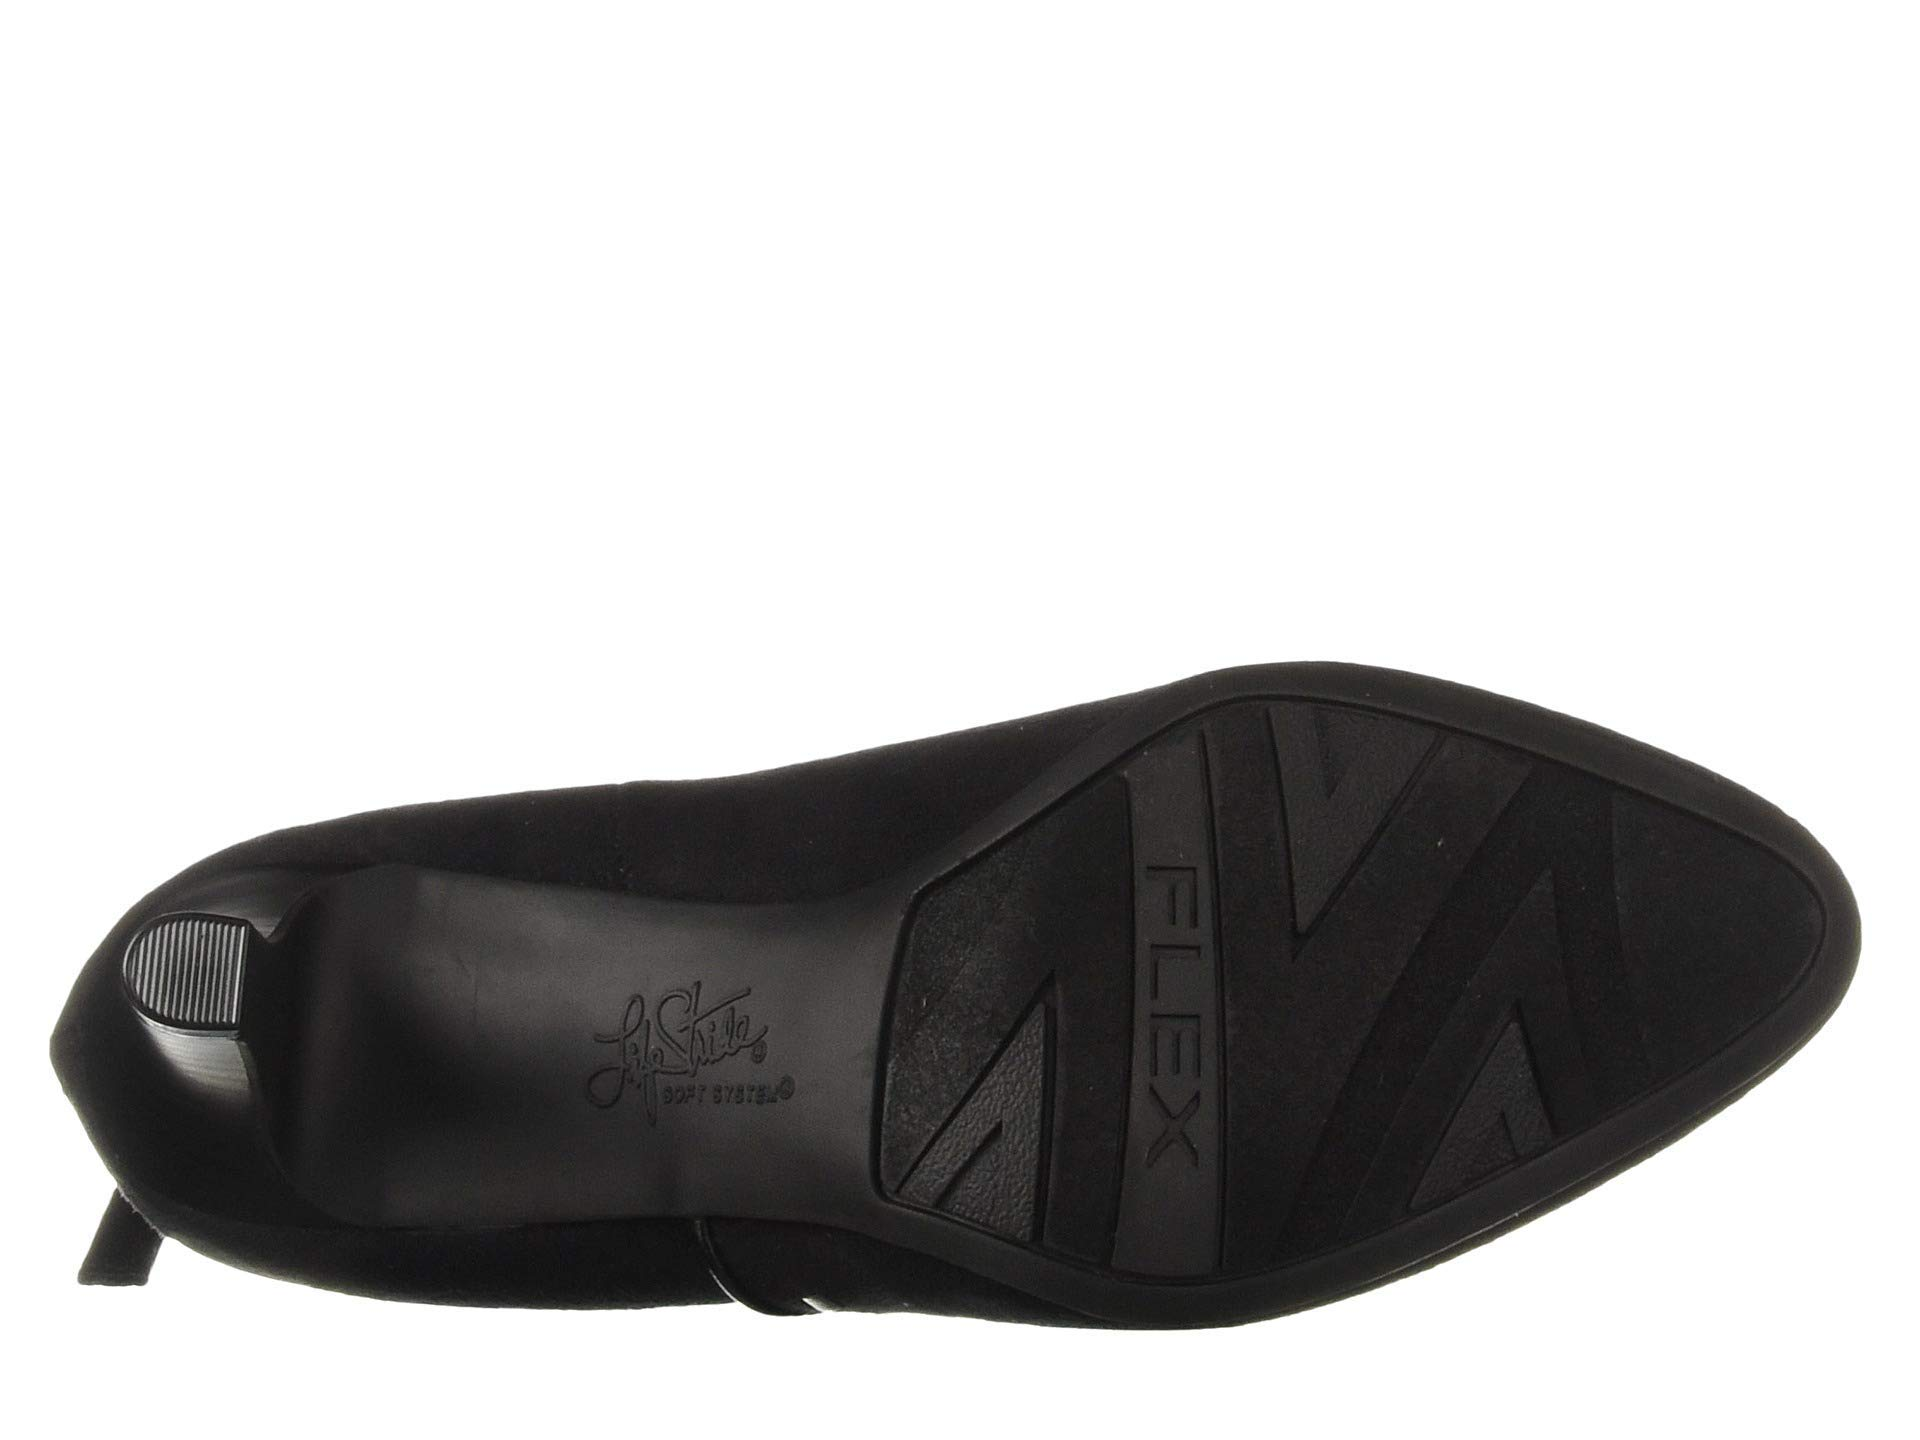exclude: (23, 979, 1111, 1330)
line: (150, 936, 230, 1013)
text: (1122, 793, 1234, 1199)
triangle: (884, 959, 1096, 1274), (1244, 670, 1460, 938), (1395, 974, 1572, 1206)
